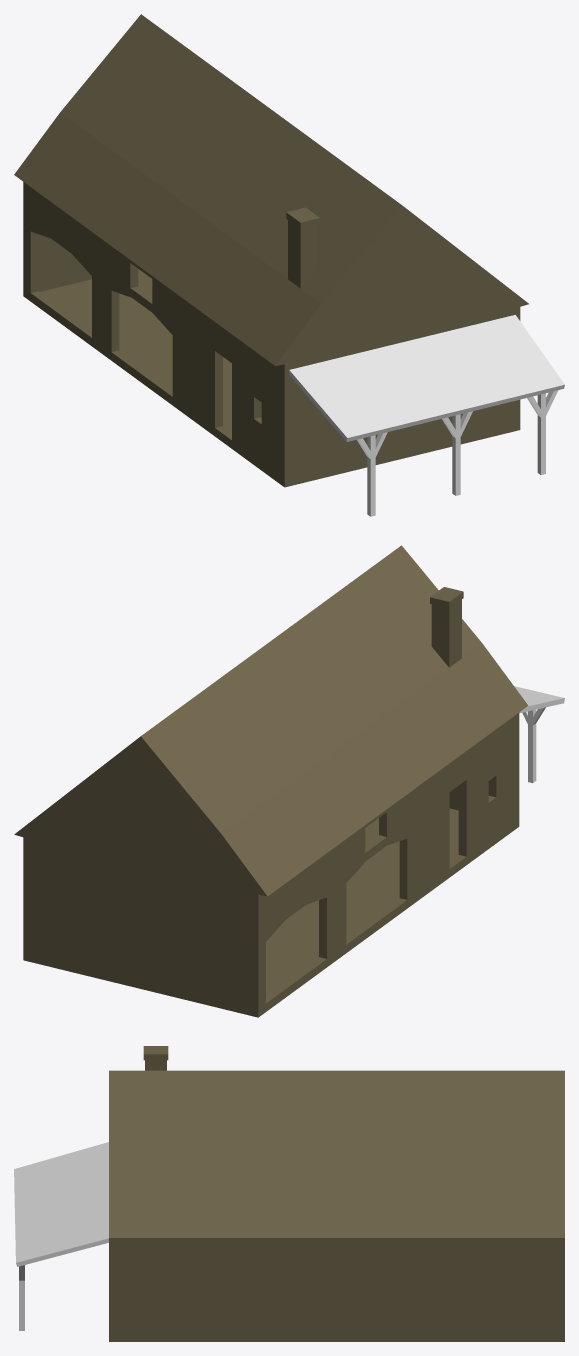
The model's file is farmhouse-small.glb.
The picture shows the model from 3 angles, top to bottom: view 1: azimuth 30°, elevation 25°; view 2: azimuth 150°, elevation 25°; view 3: azimuth 270°, elevation 25°; orthographic projection. The views are drawn at different scales.
Parts seen in each view (by area): view 1: Cube, Cube.003, Cube.004; view 2: Cube, Cube.004, Cube.003; view 3: Cube, Cube.003, Cube.004.
Part boxes in pixels (left/top/right/bottom): Cube: left=14, top=14, right=528, bottom=487; Cube.003: left=289, top=315, right=564, bottom=441; Cube.004: left=357, top=390, right=558, bottom=516; Cube: left=14, top=545, right=528, bottom=1017; Cube.004: left=522, top=707, right=545, bottom=783; Cube.003: left=514, top=686, right=564, bottom=713; Cube: left=109, top=1046, right=564, bottom=1341; Cube.003: left=14, top=1142, right=108, bottom=1266; Cube.004: left=19, top=1265, right=24, bottom=1330.
Bounding box in the file's own units: 8.63 × 8.22 × 18.57.
